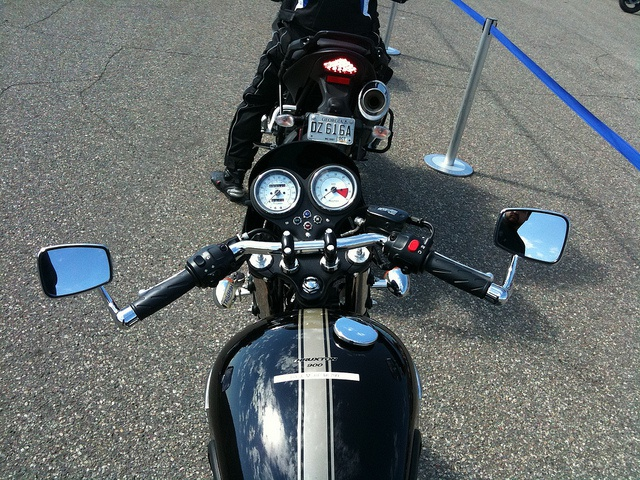non-vehicle: (34, 165, 573, 474), (225, 26, 400, 222)
